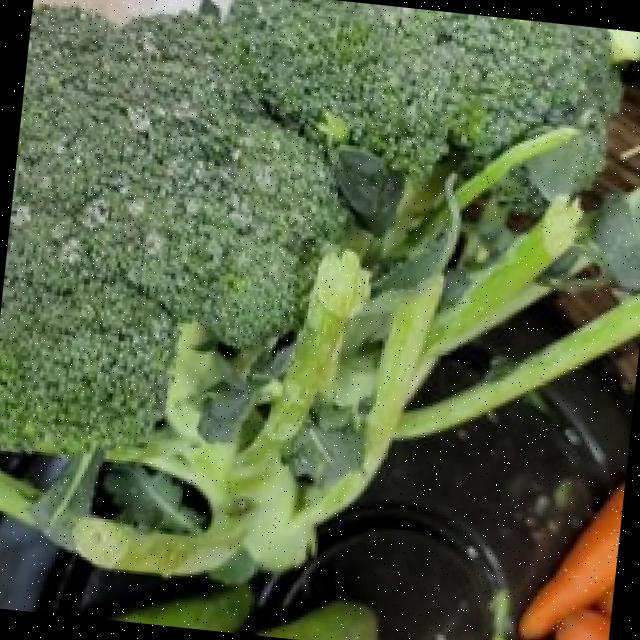Broccoli: (0, 0, 617, 452), (0, 0, 617, 451)
